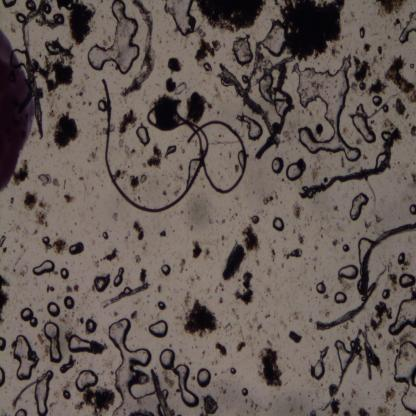Air bubble: (292, 57, 361, 164), (108, 314, 166, 414), (87, 1, 139, 72), (161, 347, 200, 410), (394, 340, 416, 413), (259, 68, 285, 116), (163, 1, 197, 35), (258, 18, 288, 56), (389, 295, 416, 337), (12, 334, 36, 381), (43, 320, 64, 364), (34, 371, 54, 415), (353, 110, 377, 146), (233, 34, 255, 66), (348, 192, 370, 224), (397, 10, 416, 45), (314, 343, 330, 381), (242, 115, 264, 142), (333, 338, 350, 371), (75, 369, 97, 392), (67, 334, 92, 352), (356, 233, 373, 258), (147, 320, 168, 340), (32, 259, 56, 276), (285, 162, 305, 181), (338, 263, 358, 282), (196, 367, 212, 390), (136, 124, 150, 147), (111, 266, 126, 287), (271, 155, 285, 176), (92, 275, 110, 291), (187, 156, 199, 179), (399, 273, 416, 289), (376, 149, 388, 169), (45, 41, 61, 55), (47, 302, 61, 318), (68, 242, 84, 256), (272, 216, 286, 232), (20, 307, 35, 321), (163, 142, 177, 157), (333, 290, 348, 304), (380, 128, 394, 142), (146, 108, 156, 127), (160, 263, 172, 278), (85, 319, 97, 334), (371, 93, 383, 108), (0, 365, 7, 390), (316, 280, 326, 296), (53, 12, 65, 24), (59, 267, 70, 280), (64, 297, 75, 310), (98, 98, 108, 112), (2, 0, 16, 10), (237, 150, 244, 169), (25, 0, 36, 12), (156, 300, 166, 313), (396, 252, 406, 265), (358, 25, 366, 41), (0, 334, 7, 352), (15, 13, 27, 23), (382, 287, 391, 300), (14, 407, 28, 415), (42, 3, 52, 14), (29, 317, 39, 328), (62, 389, 71, 401), (101, 230, 109, 242), (408, 203, 416, 215), (342, 243, 351, 253), (229, 366, 237, 376), (241, 387, 249, 397), (42, 235, 49, 245)
Background material: (278, 0, 346, 65), (196, 1, 268, 34), (179, 290, 220, 336), (351, 326, 384, 382), (58, 1, 95, 46), (384, 55, 416, 101), (255, 340, 284, 388), (194, 28, 222, 76), (46, 49, 75, 90), (364, 178, 385, 233), (75, 387, 116, 413), (52, 111, 80, 149), (153, 94, 182, 130), (220, 242, 245, 282), (233, 271, 257, 305), (369, 301, 395, 332), (187, 89, 208, 123), (10, 379, 35, 406), (241, 223, 262, 254), (352, 55, 370, 91), (375, 0, 409, 19), (307, 144, 323, 184), (119, 108, 139, 138), (201, 386, 221, 416), (12, 157, 30, 186), (35, 198, 51, 230), (58, 309, 82, 330), (327, 380, 341, 414), (163, 77, 188, 95), (366, 76, 389, 94), (90, 335, 106, 360), (191, 239, 210, 260), (146, 144, 162, 168), (0, 270, 7, 324), (166, 54, 184, 75), (59, 355, 77, 376), (46, 86, 57, 120), (119, 136, 136, 158), (47, 237, 67, 255), (100, 246, 120, 263), (242, 398, 263, 414), (161, 370, 176, 391), (393, 96, 407, 118), (32, 61, 46, 83), (130, 172, 147, 190), (386, 336, 401, 356), (38, 171, 53, 191), (24, 192, 38, 213), (384, 384, 398, 405), (130, 218, 143, 240), (282, 247, 304, 260), (213, 341, 228, 360), (387, 273, 399, 296), (7, 215, 22, 233), (39, 335, 52, 354), (292, 201, 304, 221), (288, 329, 303, 345), (176, 256, 188, 276), (280, 128, 293, 145), (235, 338, 248, 355), (87, 146, 98, 166), (114, 166, 128, 181), (208, 215, 229, 225), (295, 229, 307, 246), (378, 402, 392, 416), (254, 320, 268, 334), (64, 281, 79, 294), (261, 193, 275, 206), (211, 281, 224, 295), (18, 238, 27, 257), (340, 277, 350, 294), (17, 264, 29, 278), (62, 192, 76, 204), (0, 232, 8, 253), (75, 85, 86, 100), (74, 398, 86, 411), (138, 267, 148, 282), (130, 305, 140, 320), (98, 125, 110, 137), (142, 237, 150, 255), (79, 174, 89, 188), (299, 99, 316, 107), (224, 321, 233, 336), (43, 139, 54, 151), (188, 274, 200, 285), (410, 170, 416, 192), (359, 404, 371, 415), (384, 119, 396, 130), (408, 123, 416, 139), (338, 157, 347, 171), (29, 227, 40, 238), (270, 247, 278, 262), (158, 227, 168, 239), (232, 308, 241, 321), (332, 200, 340, 214), (172, 184, 180, 198), (45, 283, 56, 293), (349, 389, 358, 401), (52, 176, 61, 188), (322, 291, 331, 303), (330, 237, 341, 246), (8, 196, 15, 210), (376, 44, 384, 56), (342, 408, 354, 416), (154, 283, 164, 292), (6, 267, 16, 276), (110, 212, 118, 223), (266, 267, 274, 278), (364, 43, 372, 54), (310, 364, 316, 378), (104, 32, 110, 46), (292, 313, 301, 322), (207, 99, 213, 112), (94, 260, 101, 271), (135, 254, 142, 265), (262, 313, 271, 321), (266, 286, 272, 298), (252, 215, 260, 224), (160, 189, 168, 198), (325, 309, 331, 321), (66, 100, 72, 111), (307, 411, 320, 416), (164, 340, 172, 348), (312, 245, 320, 253), (113, 309, 120, 317), (186, 224, 194, 231), (309, 315, 316, 323), (179, 162, 184, 173), (219, 292, 224, 303), (83, 71, 89, 80), (314, 197, 320, 206), (220, 233, 225, 243), (87, 100, 92, 108), (256, 260, 261, 268), (275, 194, 278, 202), (191, 374, 195, 380)
Cellulose filter fibre: (316, 219, 416, 329), (300, 129, 401, 200), (218, 63, 277, 145), (256, 61, 293, 160), (21, 9, 45, 136), (126, 0, 157, 94), (102, 282, 148, 310), (366, 93, 398, 119)
Diatom: (315, 123, 325, 134)
Microfibre: (92, 76, 250, 214)
Pen: (0, 23, 34, 190)
